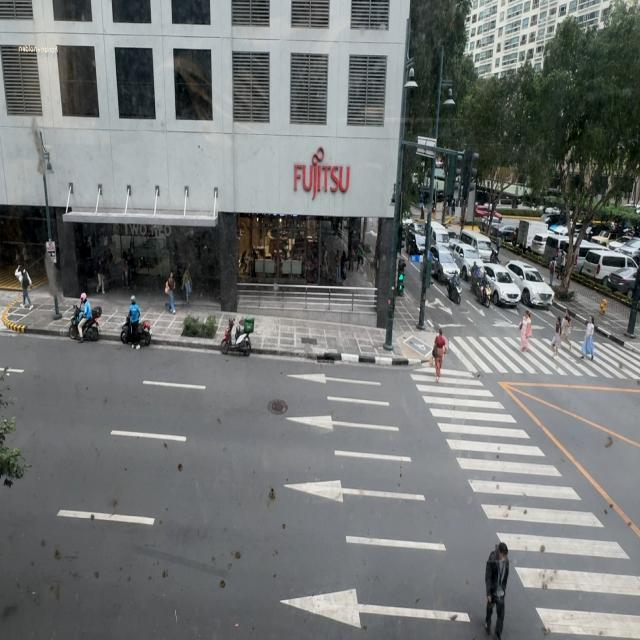jaywalking: (484, 542, 508, 640)
